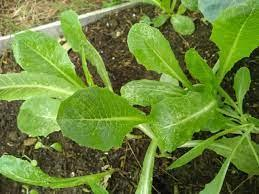Healthy-Pechay: (124, 66, 259, 168), (51, 85, 159, 147), (127, 22, 190, 88), (13, 29, 82, 88), (212, 4, 257, 77), (16, 93, 64, 139), (0, 154, 52, 187), (93, 9, 136, 42), (0, 102, 27, 153), (215, 1, 255, 25), (11, 32, 31, 72), (171, 14, 194, 36), (158, 0, 177, 14), (153, 13, 170, 28), (180, 0, 199, 13)
